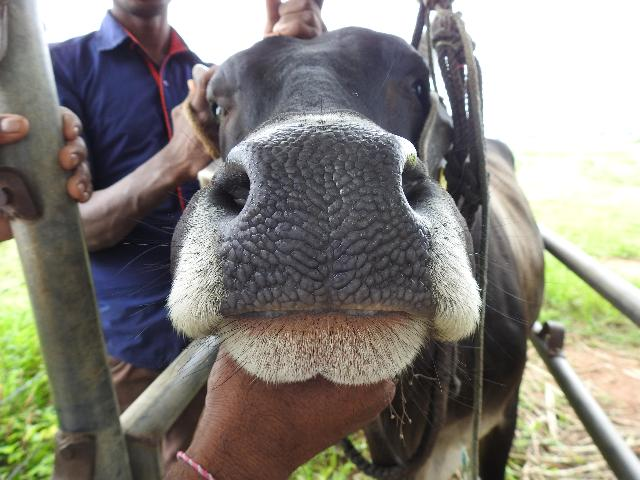Muzzle: (234, 133, 422, 306)
